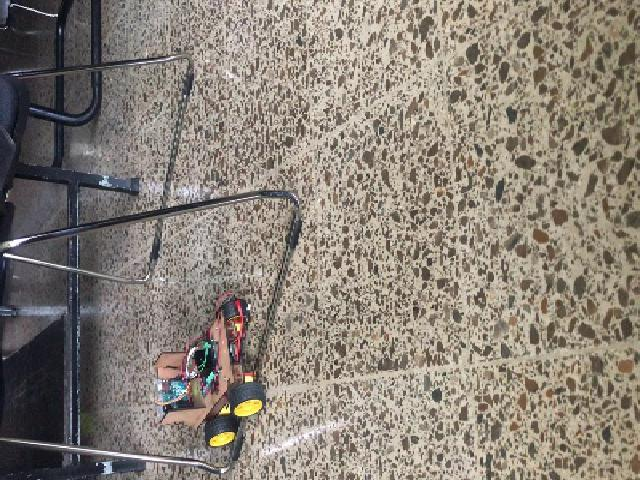Robot: (154, 298, 264, 448)
